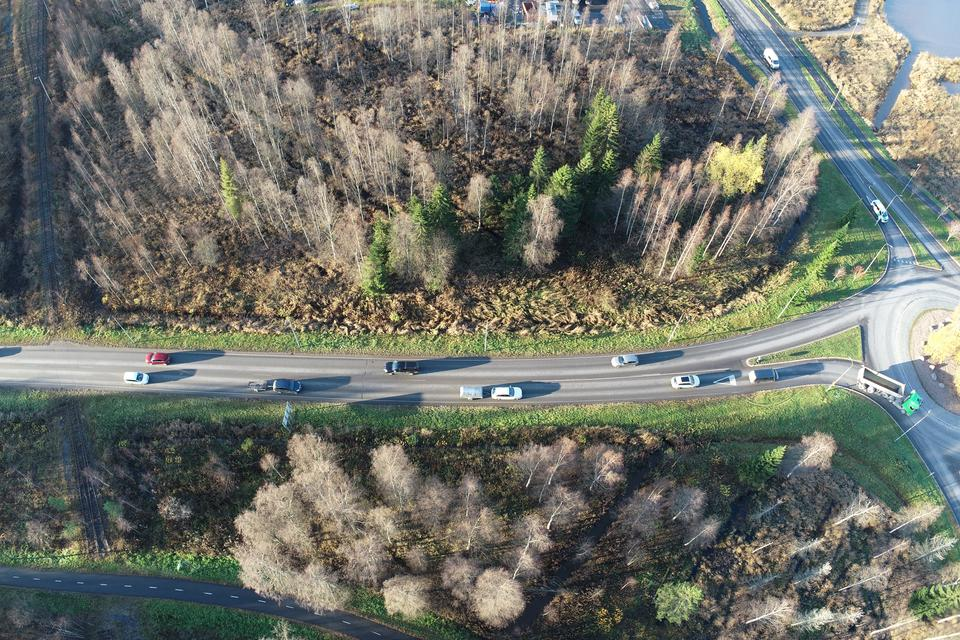intersection: (21, 294, 124, 449), (726, 16, 818, 48)
roundabout: (828, 225, 960, 480)
